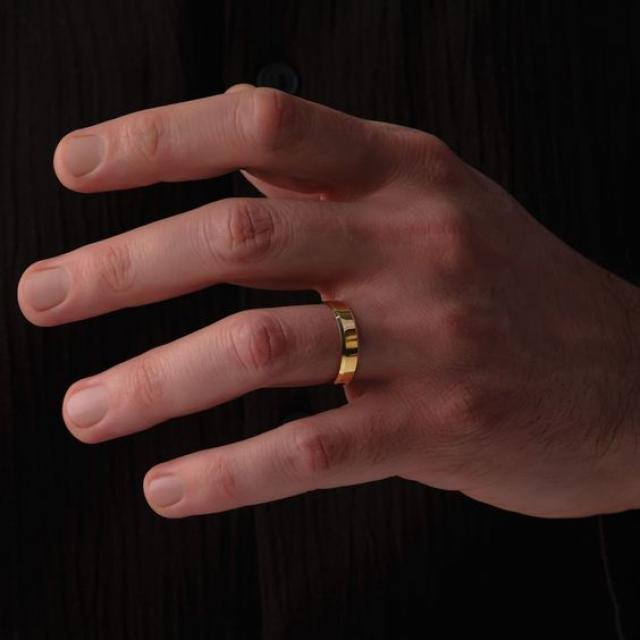Fingernail: (24, 266, 68, 311), (61, 135, 106, 177), (68, 386, 107, 426), (150, 475, 182, 509)
